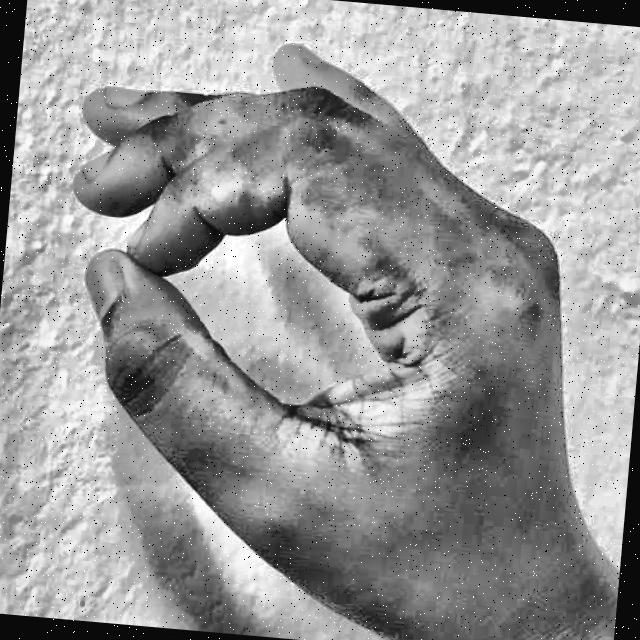Yo: (14, 7, 638, 640)
